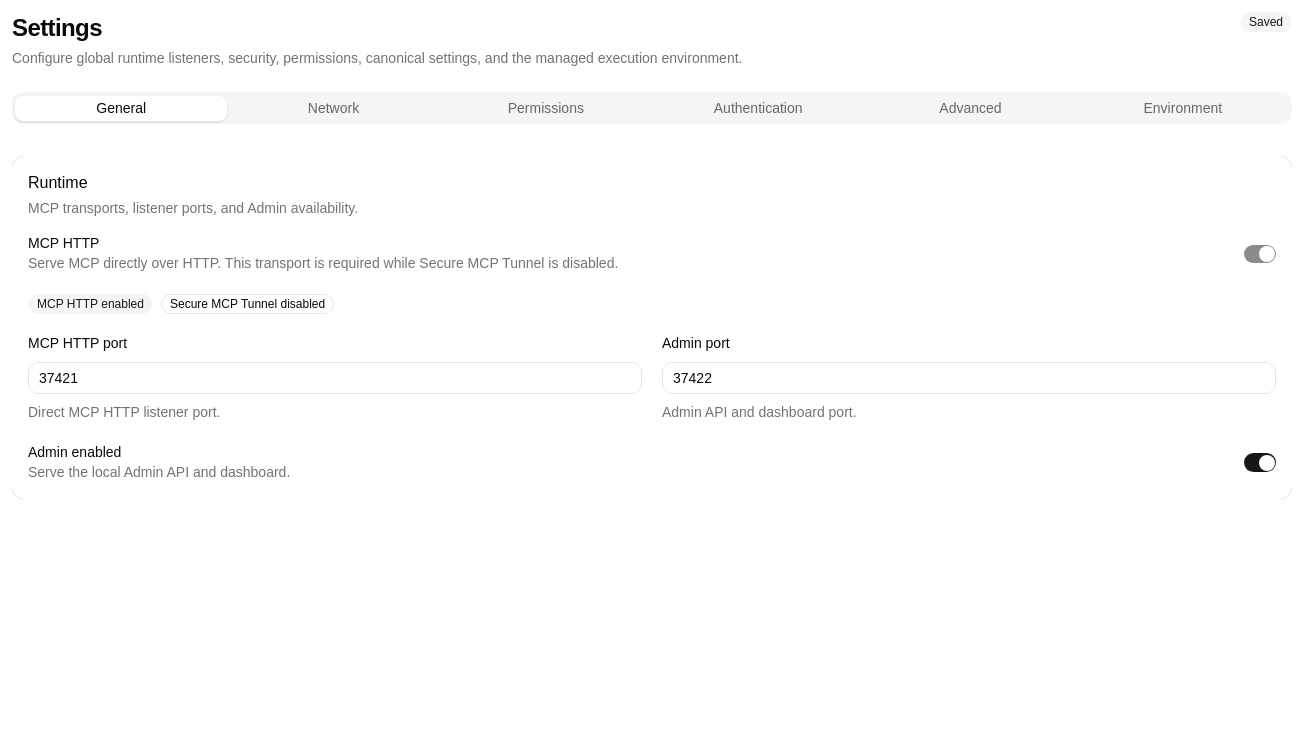
settings authentication › keeps Settings global and preserves dirty edits when a save fails
Expected: the icon "Saved" is shown, left=1240, top=12, right=1292, bottom=32
Replace the text in the number field below "MCP HTTP port" with "38421": (335, 378) left=28, top=362, right=642, bottom=394
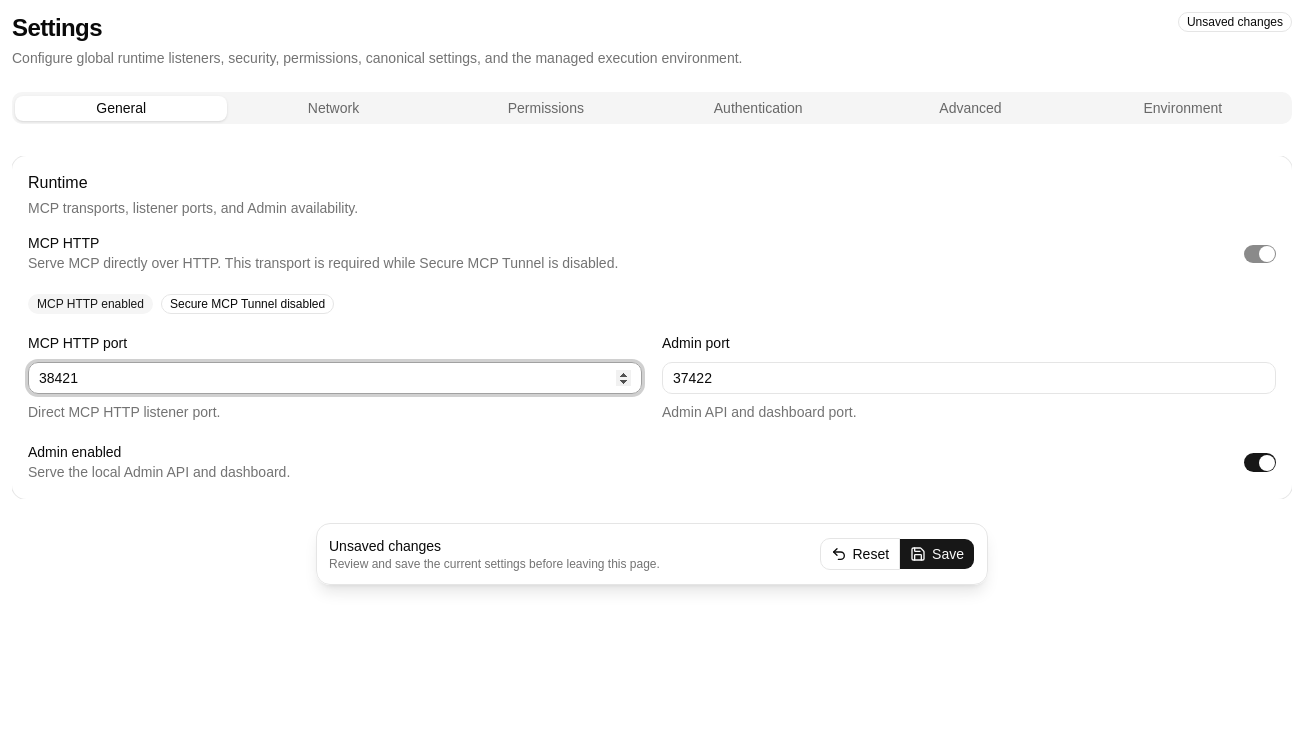
Expected: the 1st text "Unsaved changes" is shown, left=1178, top=12, right=1292, bottom=32
Click the button "Save": (938, 554) left=900, top=538, right=975, bottom=570
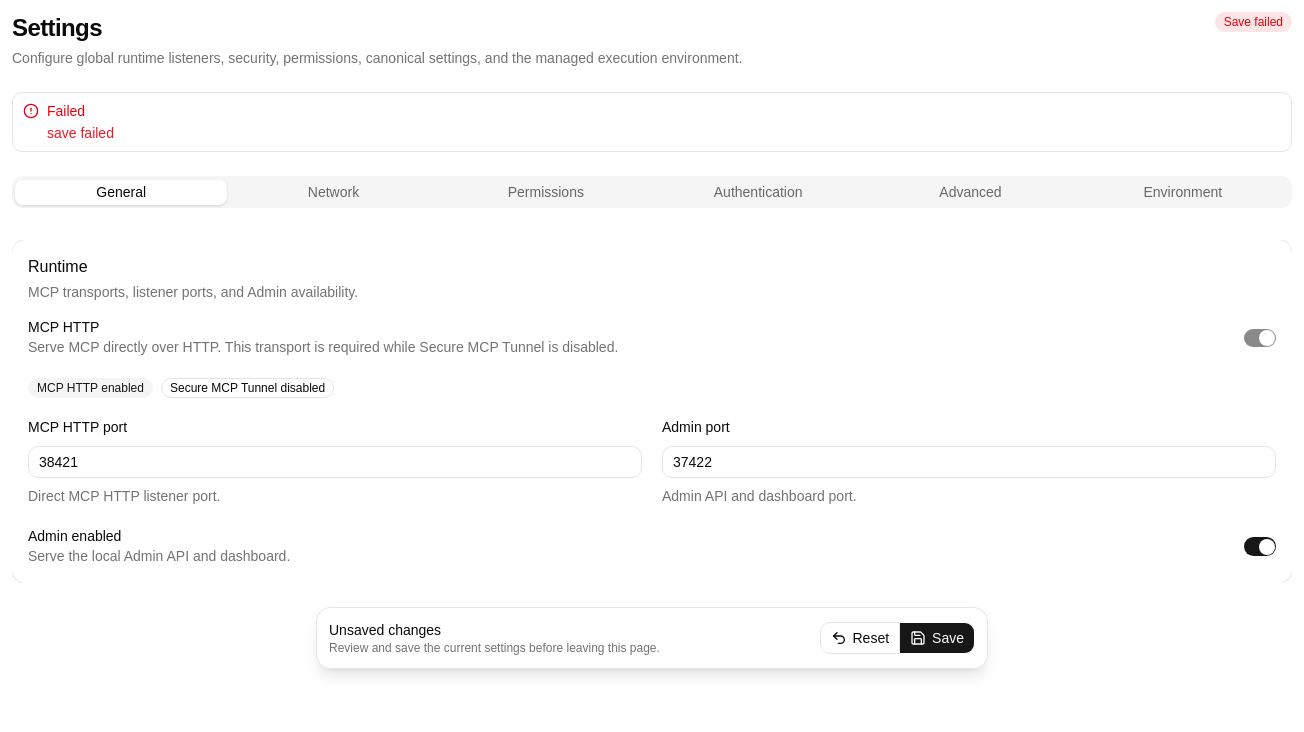
Expected: the text "Save failed" is shown, left=1215, top=12, right=1292, bottom=32
